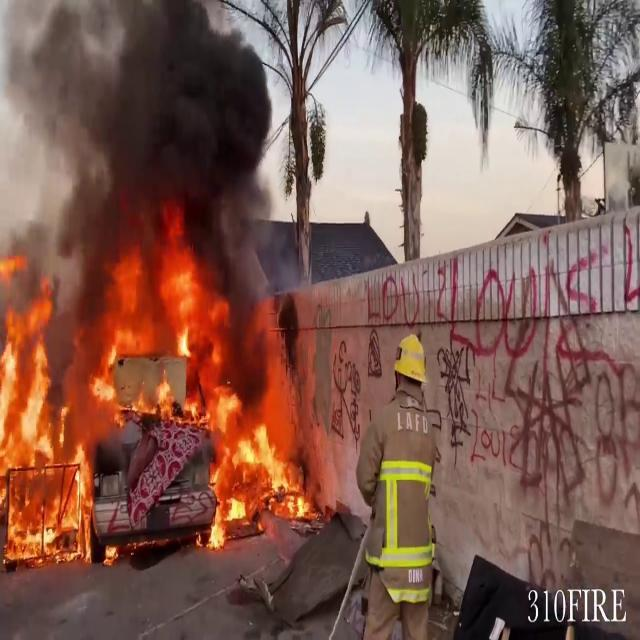Fire: (0, 238, 326, 554)
Smoke: (0, 0, 292, 303)
